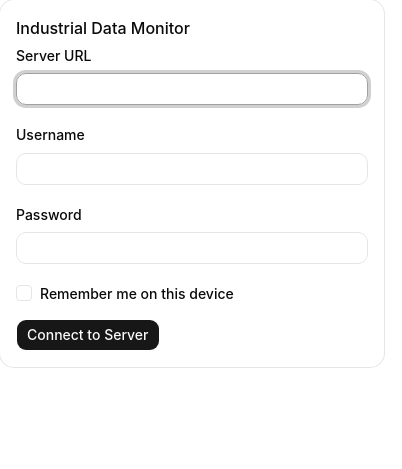
Test: AuthenticationForm › shows required-field errors and does not authenticate when submitted empty
The image size is (402, 469).
Step 1. Click the button "Connect to Server" → (88, 335), box [16,319,160,351]
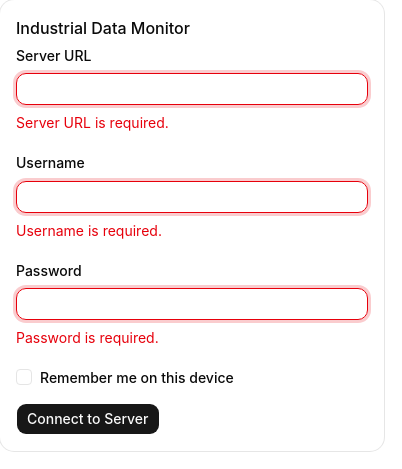
expect the text "Server URL is required." is shown: met, box [16,114,169,131]
expect the text "Username is required." is shown: met, box [16,222,162,238]
expect the text "Password is required." is shown: met, box [16,329,159,346]
